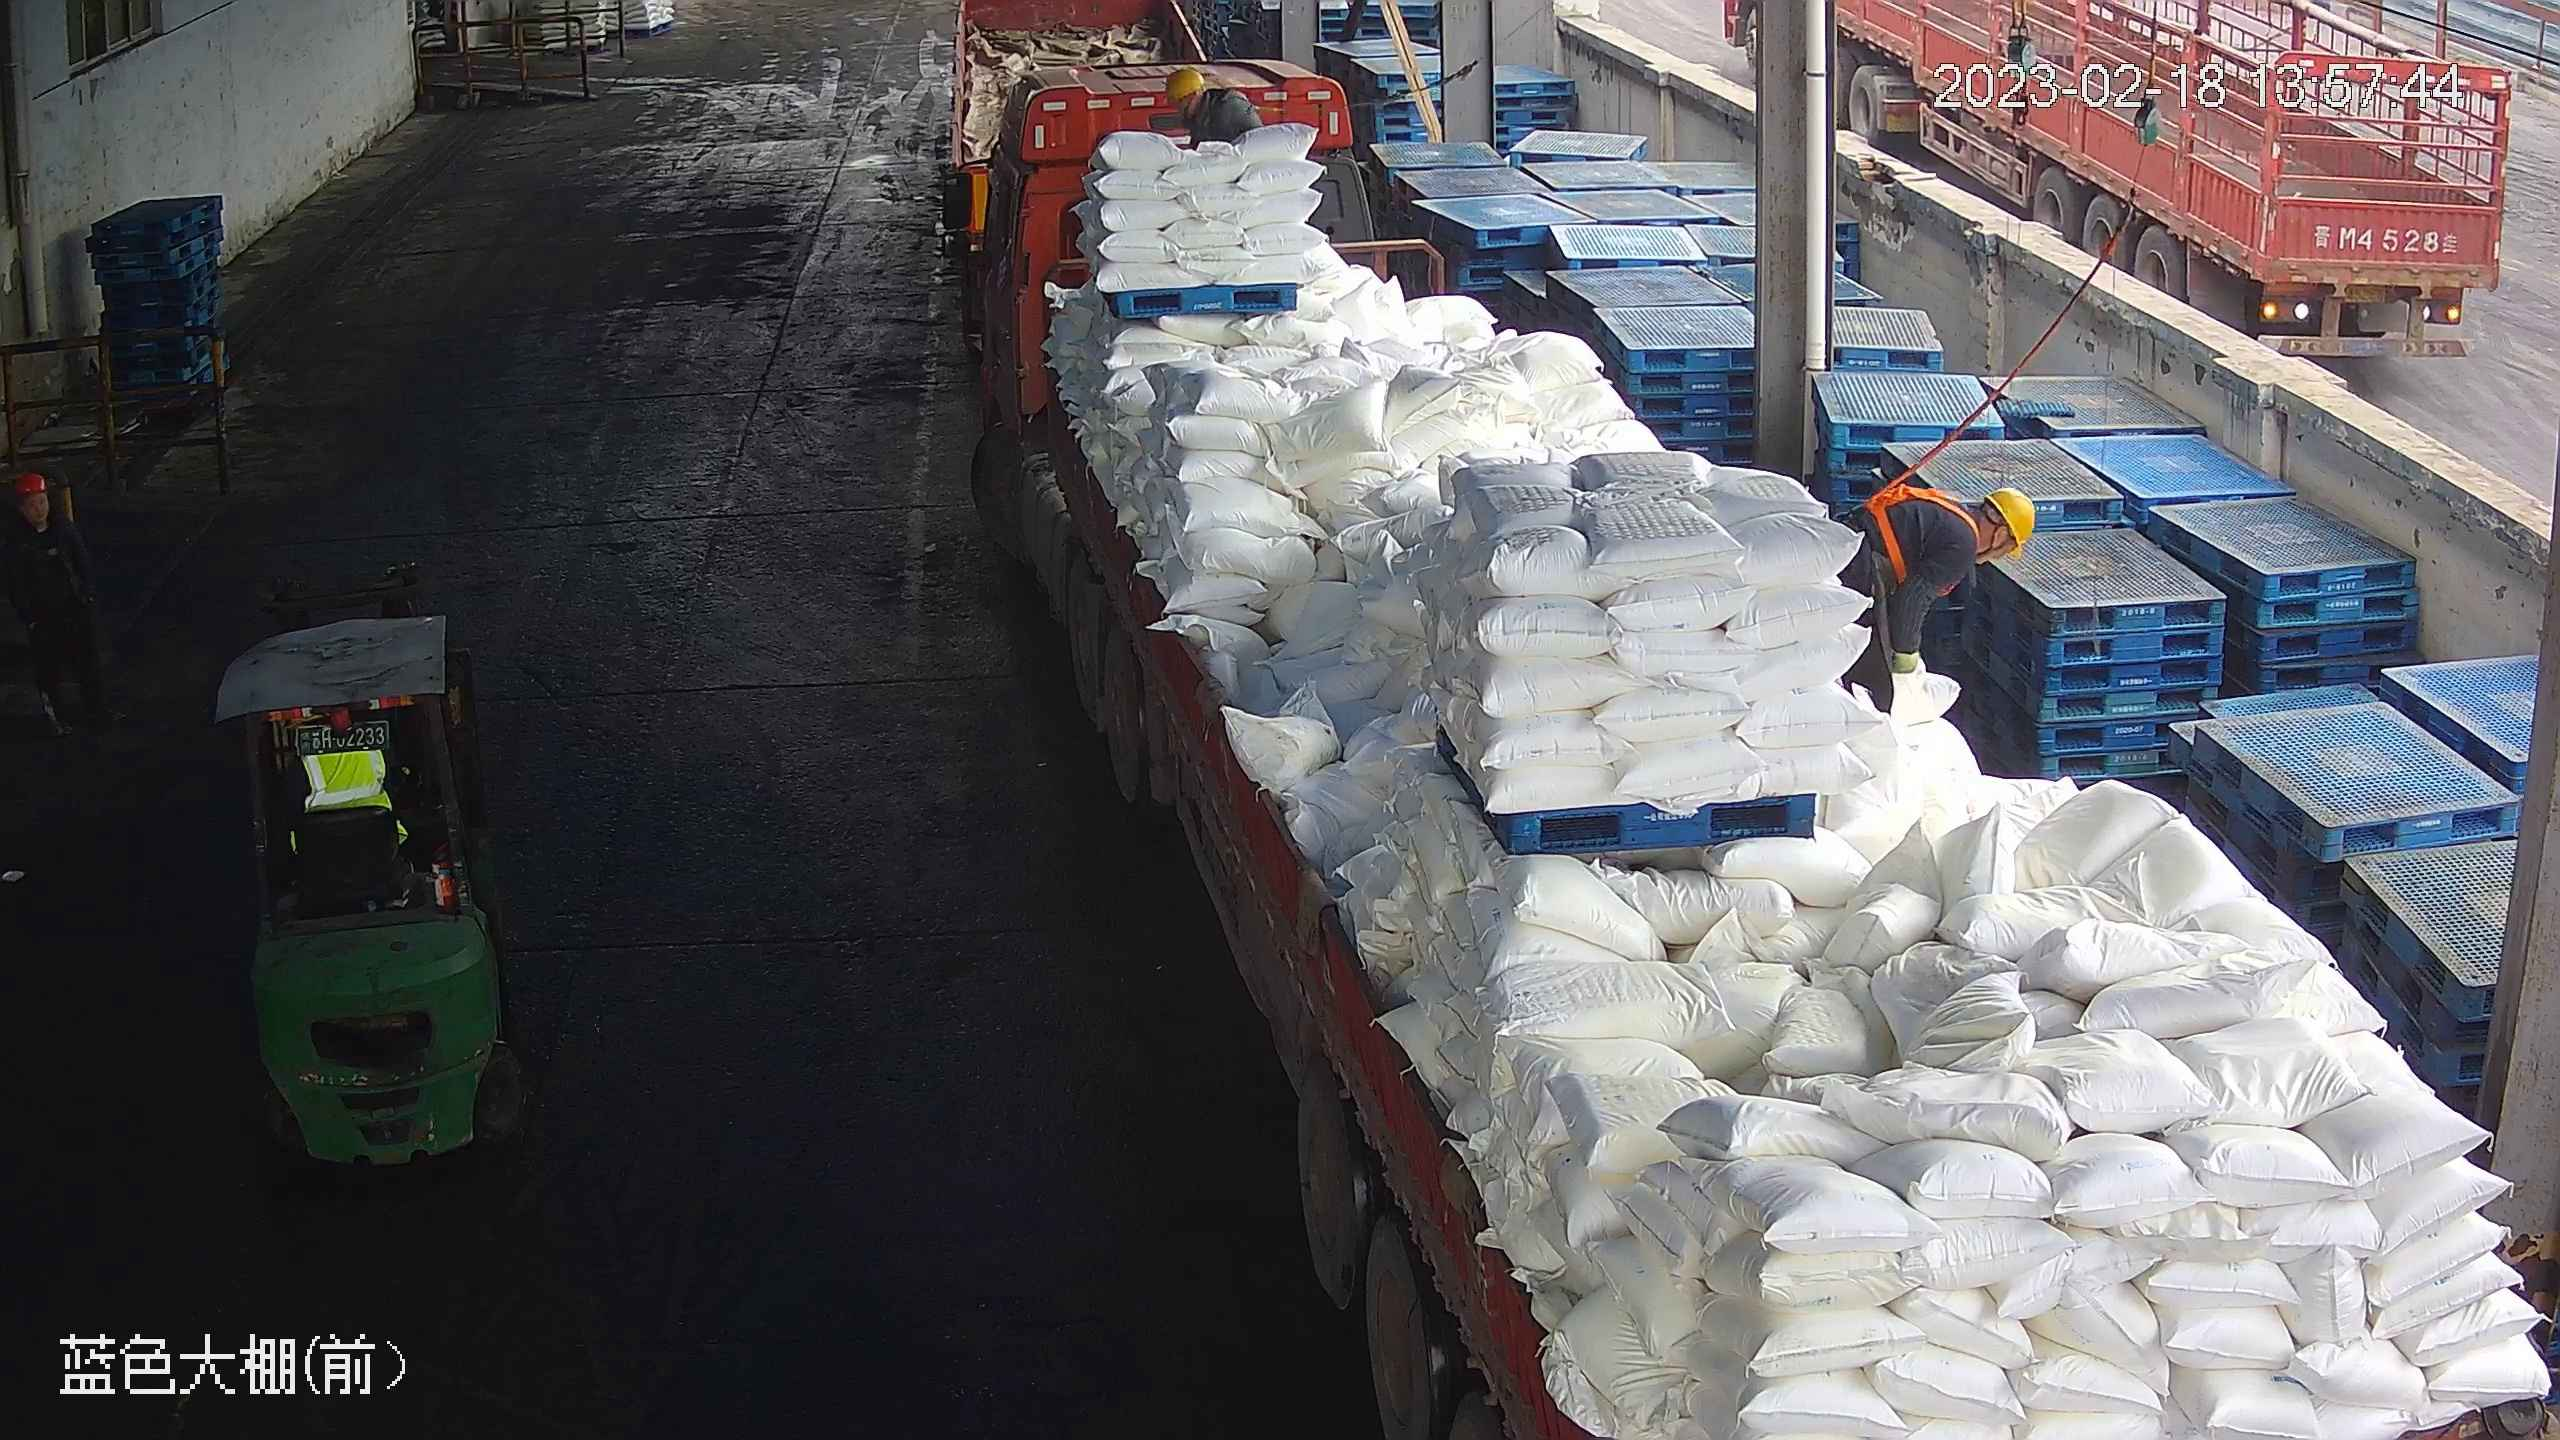belt: (1861, 470, 1977, 593)
head: (1913, 482, 2041, 592), (1163, 64, 1245, 122)
helmet: (1976, 484, 2042, 561), (1161, 64, 1204, 100)
people: (1831, 483, 2042, 722)
truck: (961, 62, 2554, 1440), (1760, 1, 2528, 398)
